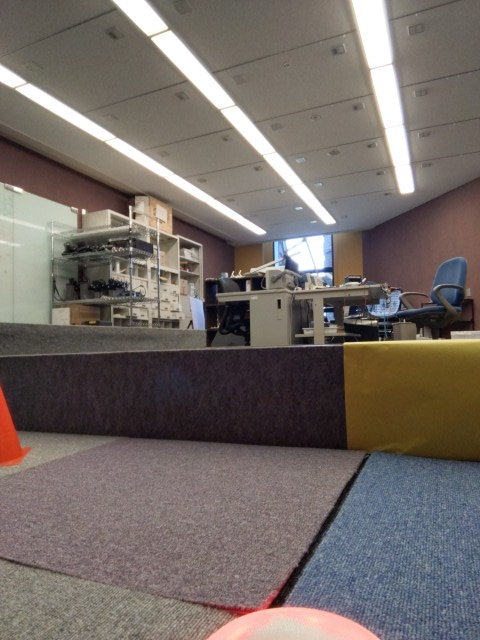r: (203, 601, 386, 640)
